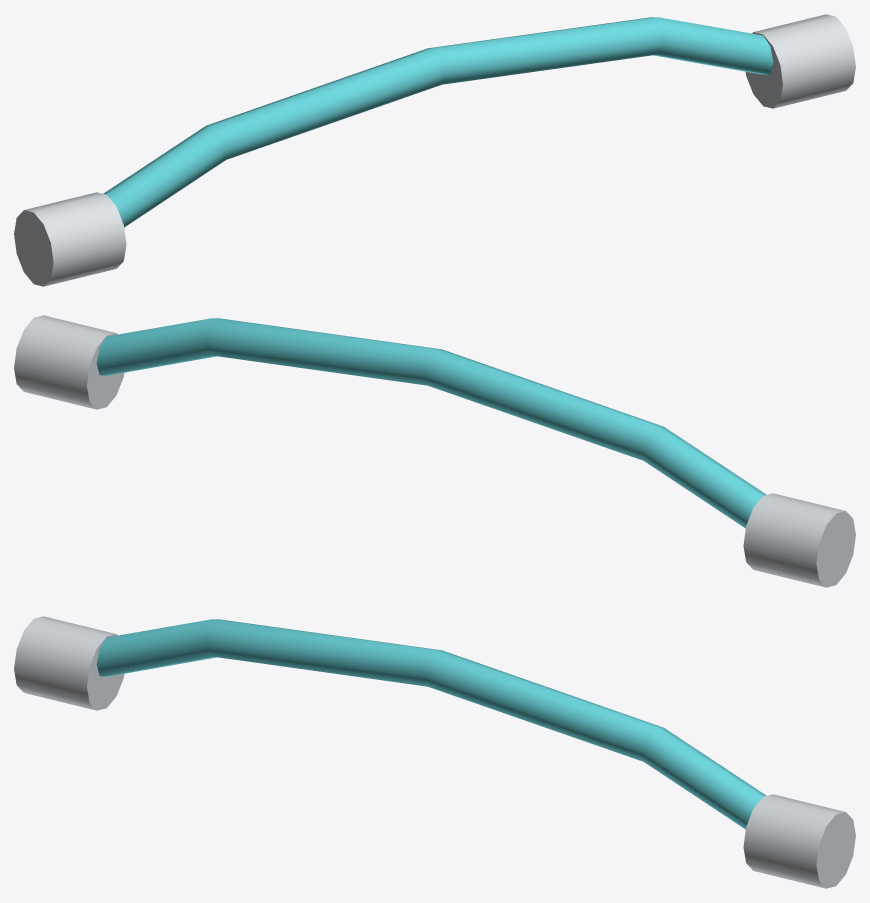
Rendered from Connection_HydraulicHose.fbx.
The picture shows the model from 3 angles, top to bottom: view 1: azimuth 30°, elevation 25°; view 2: azimuth 150°, elevation 25°; view 3: azimuth 330°, elevation 25°; orthographic projection.
Parts seen in each view (by area): view 1: FlexibleLine, EndFitting, EndFitting.001; view 2: FlexibleLine, EndFitting, EndFitting.001; view 3: FlexibleLine, EndFitting.001, EndFitting.
Part boxes in pixels (x1,y1,x2,y2): FlexibleLine: (103, 17, 773, 227); EndFitting: (14, 192, 126, 286); EndFitting.001: (745, 14, 855, 108); FlexibleLine: (96, 318, 766, 528); EndFitting: (743, 493, 855, 587); EndFitting.001: (14, 315, 124, 409); FlexibleLine: (96, 619, 766, 829); EndFitting.001: (743, 794, 855, 888); EndFitting: (14, 616, 124, 710).
Size of the model in its own units: 1.1 by 0.181 by 0.094.
